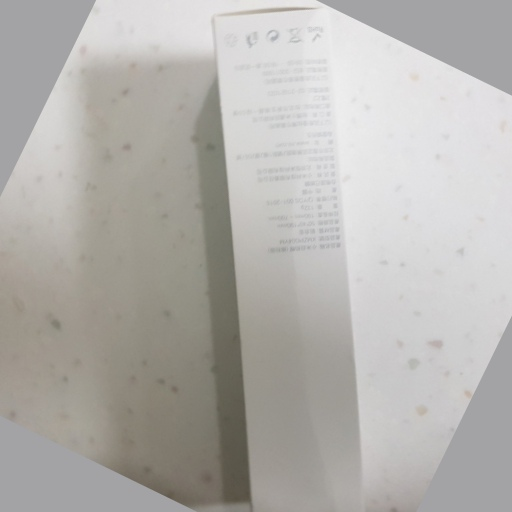Paper_0: (206, 5, 378, 512)
